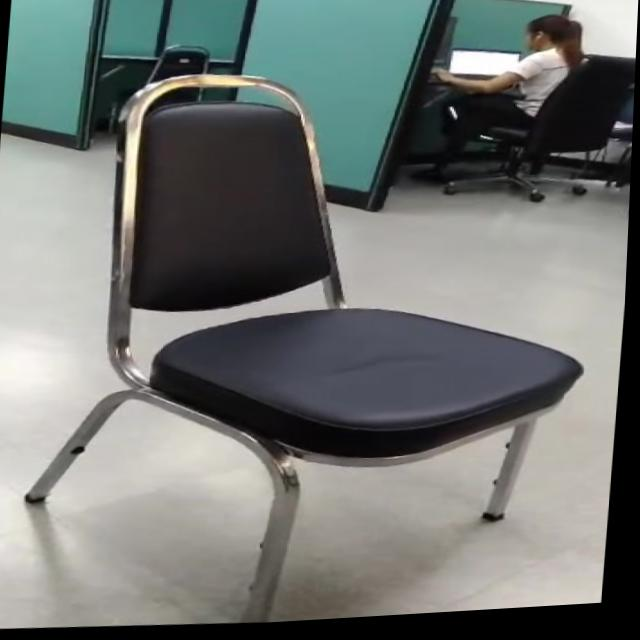chair: (0, 0, 621, 640)
